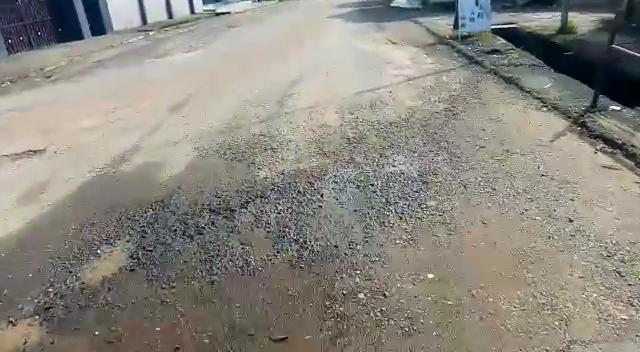pothole: (75, 236, 136, 295)
